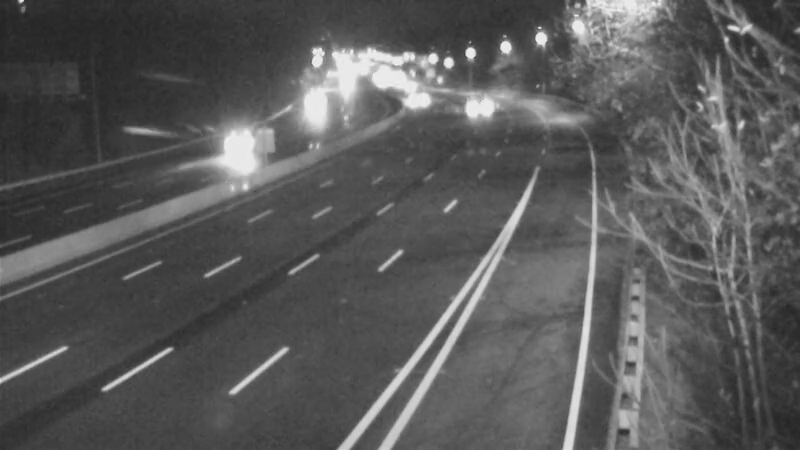vehicle: (392, 75, 442, 125), (446, 81, 496, 131), (225, 124, 275, 174), (285, 84, 335, 134)
